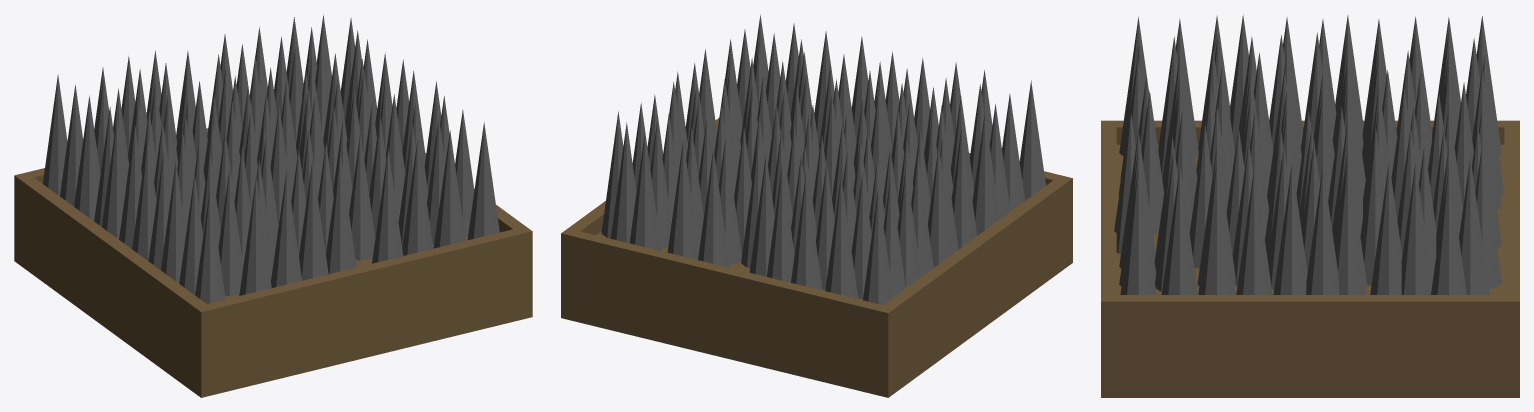
The model's file is Spikes1.fbx.
3 renders of one model, left to right at view 1: azimuth 30°, elevation 25°; view 2: azimuth 150°, elevation 25°; view 3: azimuth 270°, elevation 25°, orthographic. The views are drawn at different scales.
Parts seen in each view (by area): view 1: pCube1, pasted__pasted__pCone1 (×23), pasted__pasted__pasted__pCone1 (×22), pasted__pCone1 (×9), pasted__pasted__pasted__pasted__pCone1 (×19), pasted__pasted__pasted__pasted__pasted__pCone1 (×4), pCone1; view 2: pCube1, pasted__pasted__pasted__pasted__pCone1 (×23), pasted__pasted__pasted__pCone1 (×25), pasted__pasted__pCone1 (×18), pasted__pCone1 (×8), pasted__pasted__pasted__pasted__pasted__pCone1 (×5), pCone1; view 3: pCube1, pasted__pasted__pasted__pasted__pCone1 (×25), pasted__pasted__pasted__pCone1 (×31), pasted__pasted__pCone1 (×23), pasted__pasted__pasted__pasted__pasted__pCone1 (×6), pasted__pCone1 (×7), pCone1.
Part boxes in pixels (x1,y1,x2,y2): pCube1: (14, 128, 532, 397); pasted__pasted__pCone1 (×23): (60, 84, 499, 296); pasted__pasted__pasted__pCone1 (×22): (43, 36, 474, 244); pasted__pCone1 (×9): (132, 138, 433, 295); pasted__pasted__pasted__pasted__pCone1 (×19): (113, 17, 441, 221); pasted__pasted__pasted__pasted__pasted__pCone1 (×4): (286, 17, 392, 138); pCone1: (195, 189, 225, 303); pCube1: (561, 118, 1072, 397); pasted__pasted__pasted__pasted__pCone1 (×23): (601, 49, 913, 298); pasted__pasted__pasted__pCone1 (×25): (685, 29, 953, 304); pasted__pasted__pCone1 (×18): (753, 14, 999, 297); pasted__pCone1 (×8): (814, 31, 1024, 249); pasted__pasted__pasted__pasted__pasted__pCone1 (×5): (610, 81, 682, 250); pCone1: (1019, 80, 1045, 200); pCube1: (1101, 120, 1519, 397); pasted__pasted__pasted__pasted__pCone1 (×25): (1232, 32, 1504, 294); pasted__pasted__pasted__pCone1 (×31): (1155, 15, 1501, 294); pasted__pasted__pCone1 (×23): (1119, 14, 1460, 294); pasted__pasted__pasted__pasted__pasted__pCone1 (×6): (1334, 145, 1501, 294); pasted__pCone1 (×7): (1114, 15, 1303, 268); pCone1: (1119, 16, 1146, 156).
Size of the model in its own units: 3.73 by 2.08 by 3.65.
